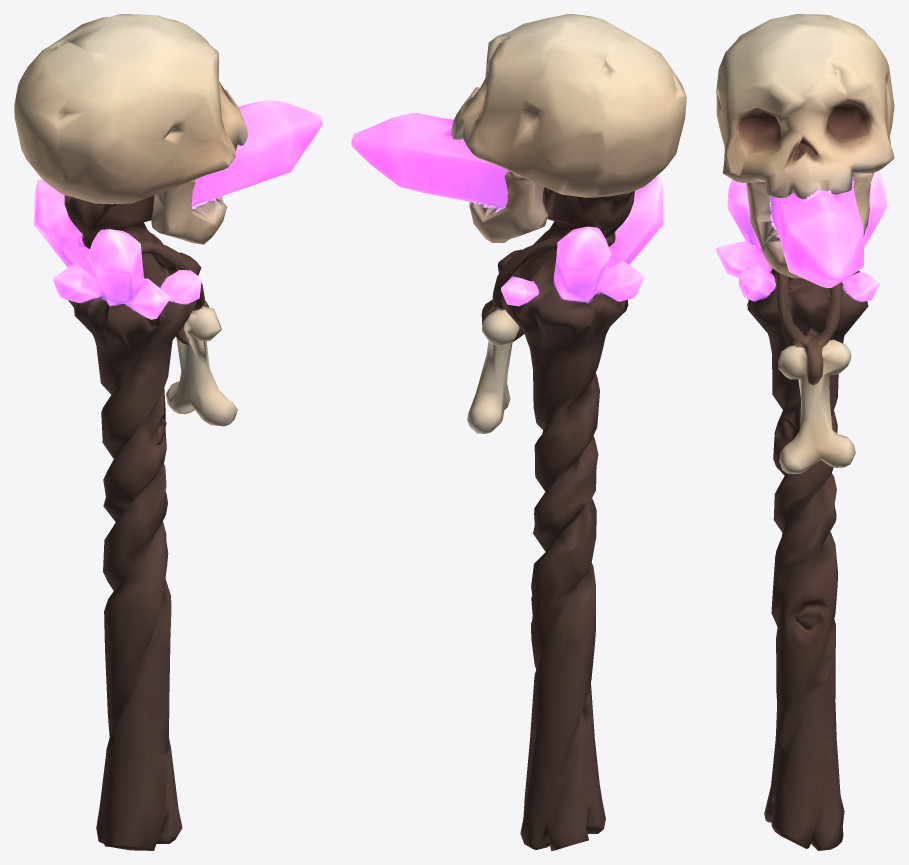
The model's file is BoneNecro_Staff-ZO2Q-Tjd.glb.
3 renders of one model, left to right at view 1: azimuth 30°, elevation 25°; view 2: azimuth 150°, elevation 25°; view 3: azimuth 270°, elevation 25°, orthographic. The views are drawn at different scales.
Visible parts, largest first — view 1: tripo_node_07f92ea2-0129-41ae-9861-05eacfae68fa; view 2: tripo_node_07f92ea2-0129-41ae-9861-05eacfae68fa; view 3: tripo_node_07f92ea2-0129-41ae-9861-05eacfae68fa.
Part boxes in pixels (x1,y1,x2,y2): tripo_node_07f92ea2-0129-41ae-9861-05eacfae68fa: (14, 14, 322, 850); tripo_node_07f92ea2-0129-41ae-9861-05eacfae68fa: (351, 14, 686, 850); tripo_node_07f92ea2-0129-41ae-9861-05eacfae68fa: (715, 14, 894, 850).
Size of the model in its own units: 0.8165 by 2.1 by 0.4204.
1 material, 1 textured.
